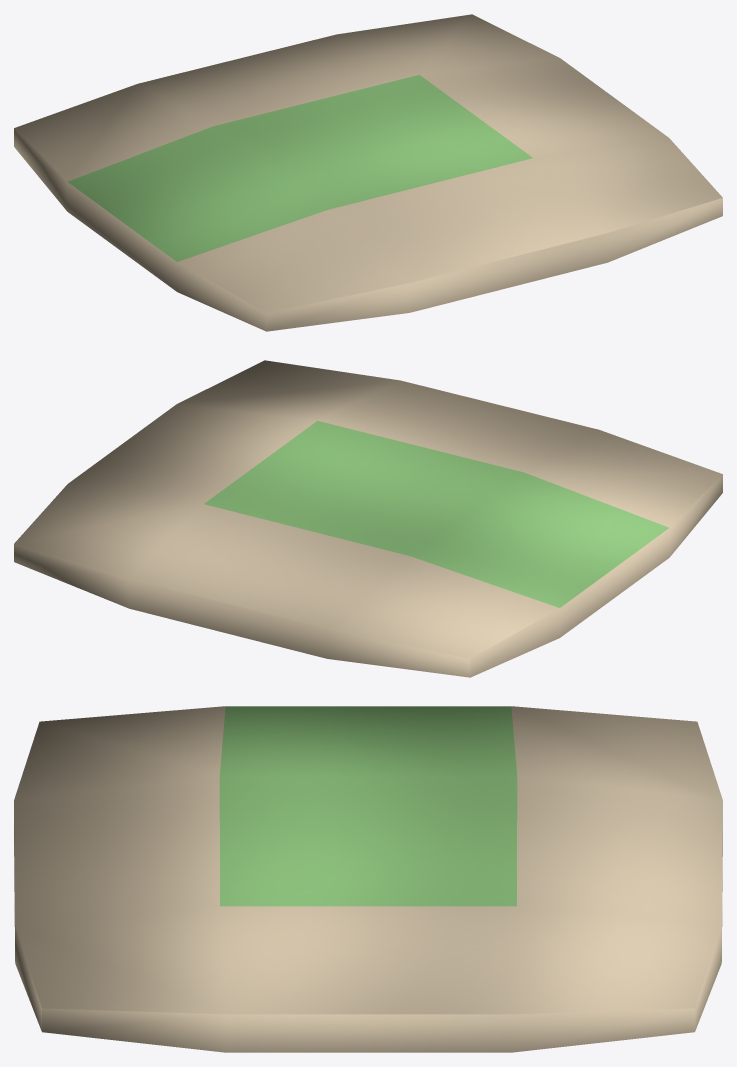
File: flower_c.glb
The picture shows the model from 3 angles, top to bottom: view 1: azimuth 30°, elevation 25°; view 2: azimuth 150°, elevation 25°; view 3: azimuth 270°, elevation 25°; orthographic projection. The views are drawn at different scales.
Visible parts, largest first — view 1: lod0; view 2: lod0; view 3: lod0.
Boxes of the visible parts, bbox=[...] form: lod0: bbox=[14, 14, 722, 331]; lod0: bbox=[14, 360, 722, 677]; lod0: bbox=[14, 706, 722, 1052].
Bounding box in the file's own units: 0.134 × 0.0127 × 0.1282.
1 material, 1 textured.
